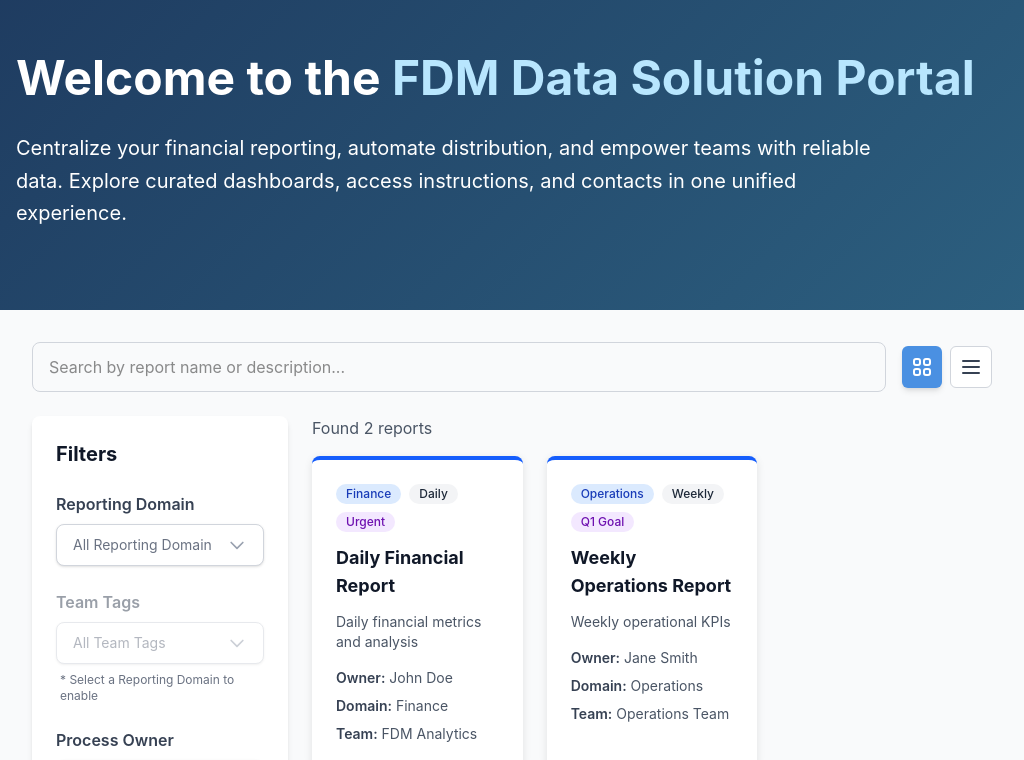
Test: Home Page › should filter reports by search query
In the field with placeholder "Search by report name or description...": (459, 366) [32,342,886,392], type "Daily"
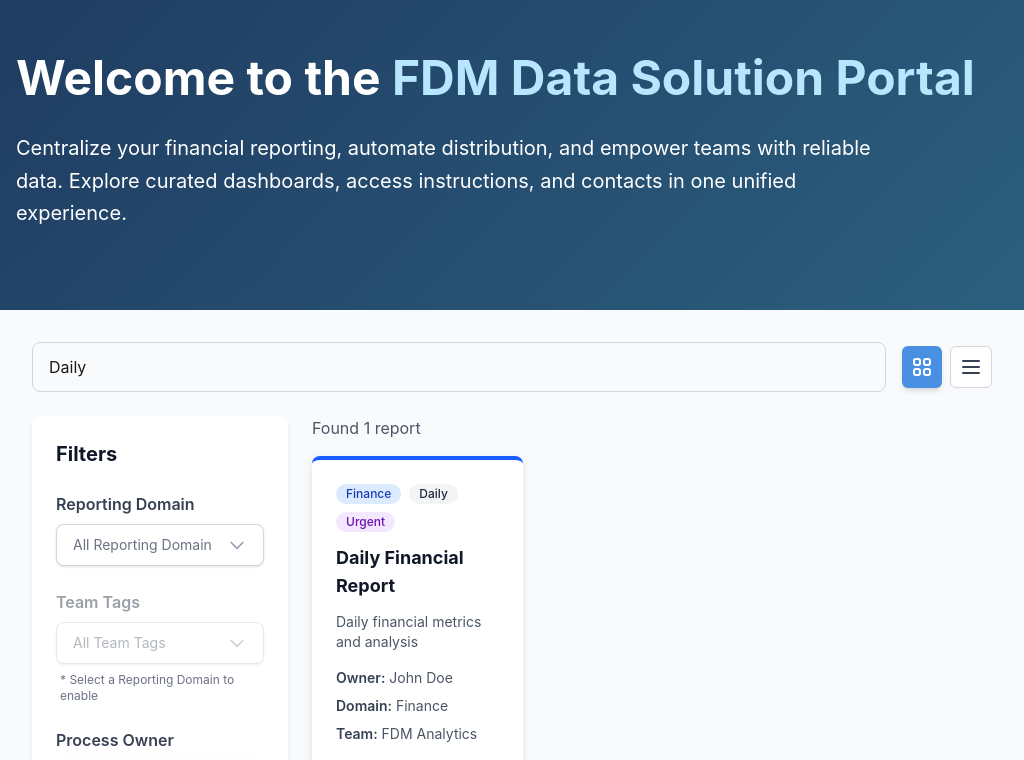
Expected: the heading "Daily Financial Report" is shown, [336,546,464,596]
Expected: the link "Weekly Operations Report" is gone
